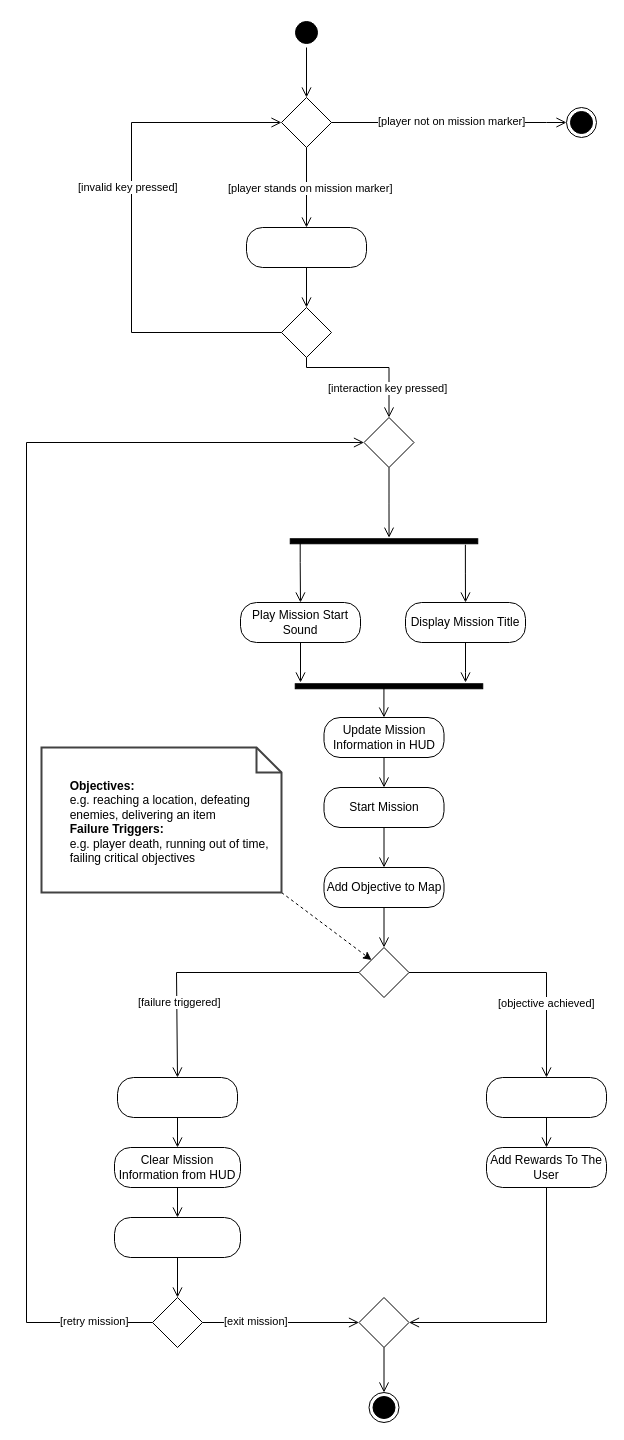
Image size: 624x1440. Some labels were removed from this diagram. The shapes that lost their labels are listed below. From the top down, each one's centre as x and y in pixels, then its label:
At [306,247]: "Display Mission Information".
At [177,1097]: "Display Failure Notifications".
At [546,1097]: "Display Success Notification".
At [177,1237]: "Display Options".
